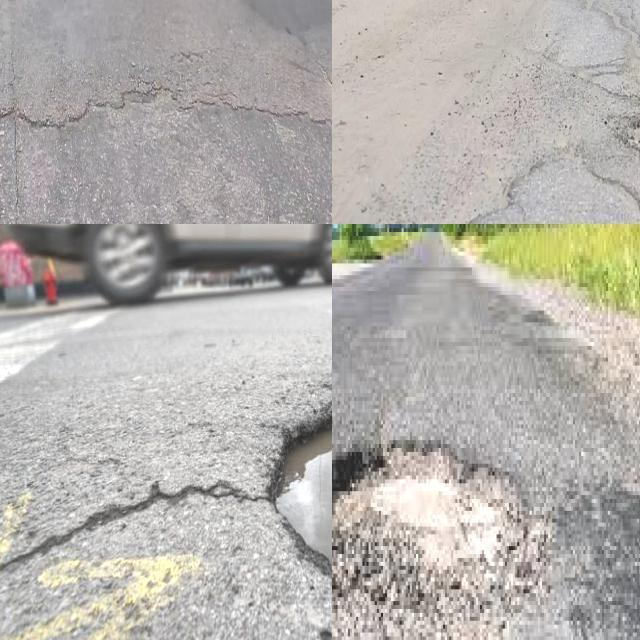Pothole: (332, 448, 548, 582), (367, 151, 513, 224), (612, 118, 640, 151)
